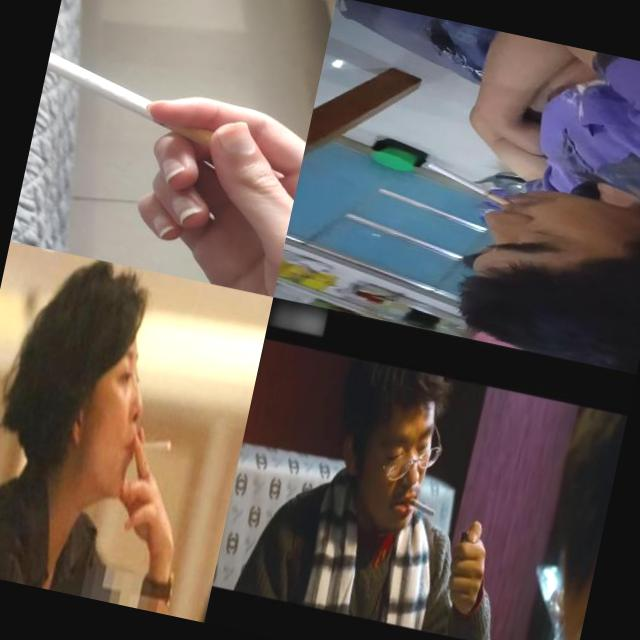cigarette: (37, 51, 235, 152), (422, 162, 515, 206), (399, 493, 438, 520), (140, 432, 173, 458)
